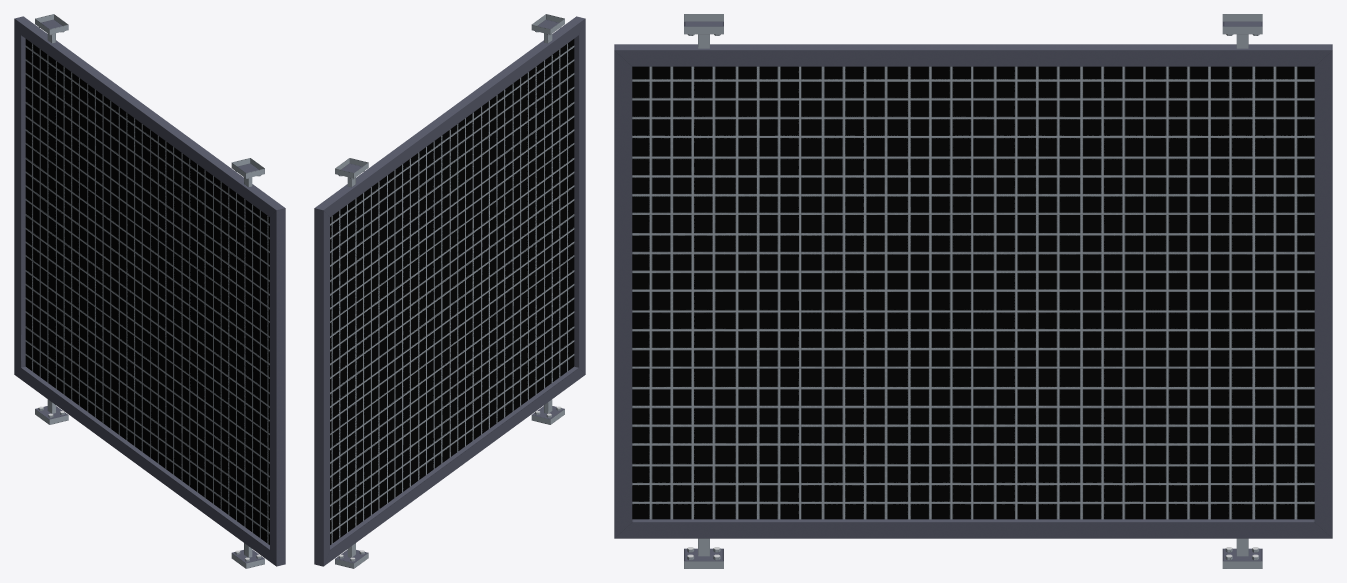
The model's file is Grid_Interior_01.FBX.
3 views of the same model, side by side, from view 1: azimuth 30°, elevation 25°; view 2: azimuth 150°, elevation 25°; view 3: azimuth 270°, elevation 25° (orthographic). The views are drawn at different scales.
Parts seen in each view (by area): view 1: Grid_Interior_01; view 2: Grid_Interior_01; view 3: Grid_Interior_01.
Part boxes in pixels (x1,y1,x2,y2): Grid_Interior_01: (14, 14, 285, 568); Grid_Interior_01: (314, 14, 585, 568); Grid_Interior_01: (614, 14, 1332, 568).
Size of the model in its own units: 0.25 by 5 by 6.
